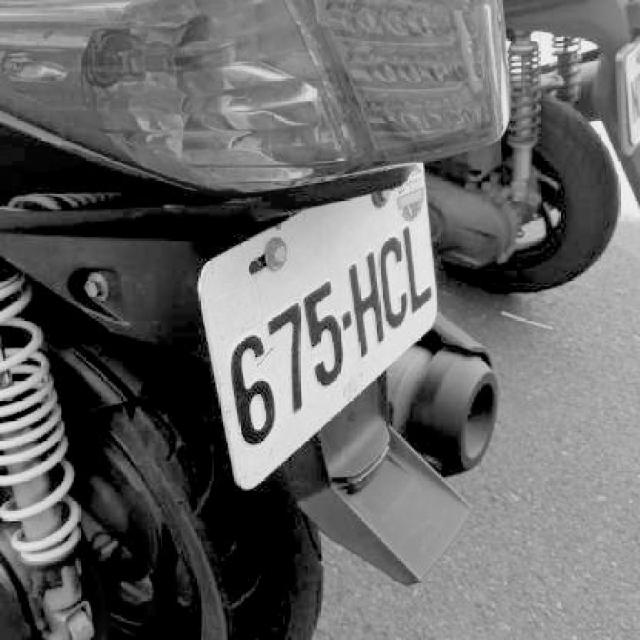5: (300, 279, 346, 390)
6: (226, 328, 276, 449)
7: (265, 300, 303, 413)
C: (372, 233, 409, 331)
H: (346, 247, 386, 357)
L: (401, 224, 432, 312)
